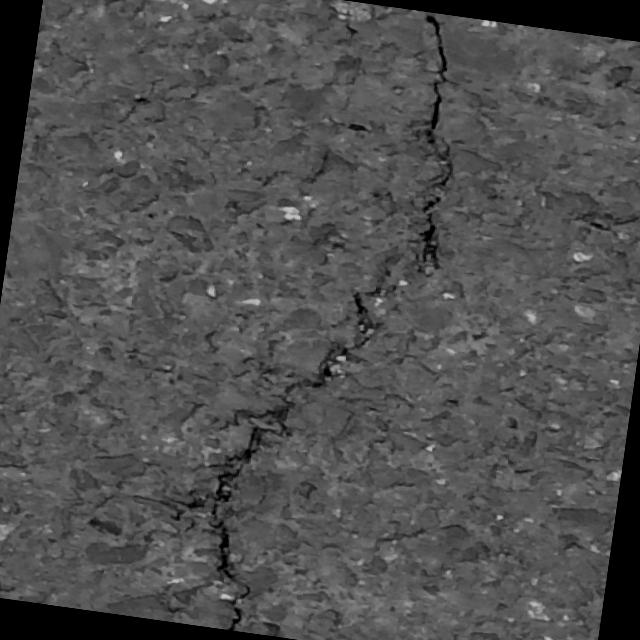crack: (184, 0, 480, 640)
spall: (298, 214, 442, 412)
